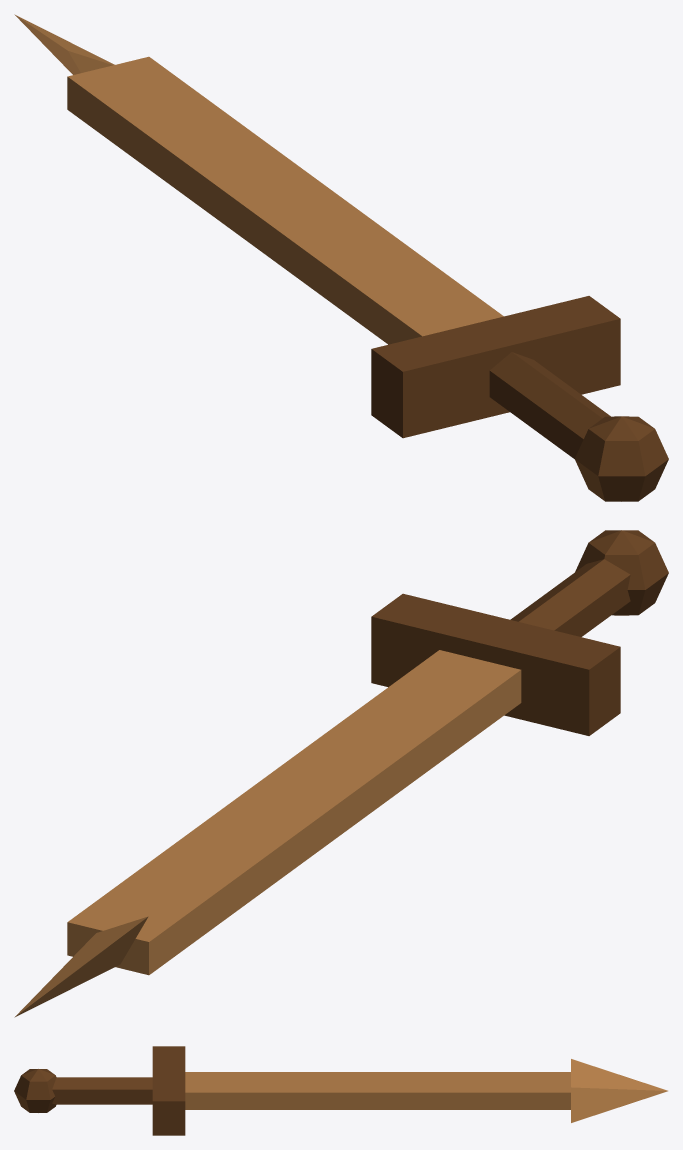
File: wooden_sword.glb
3 renders of one model, top to bottom at view 1: azimuth 30°, elevation 25°; view 2: azimuth 150°, elevation 25°; view 3: azimuth 270°, elevation 25°, orthographic. The views are drawn at different scales.
Visible parts, largest first — view 1: WoodenSword; view 2: WoodenSword; view 3: WoodenSword.
Boxes of the visible parts, <box> form: WoodenSword: <box>14,14,668,501</box>; WoodenSword: <box>14,530,668,1017</box>; WoodenSword: <box>14,1046,667,1135</box>.
Size of the model in its own units: 0.24 by 0.09 by 1.2.
